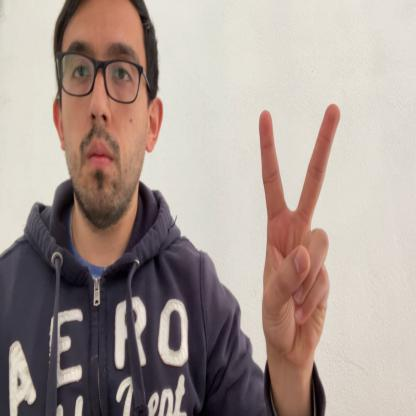V: (259, 103, 341, 362)
